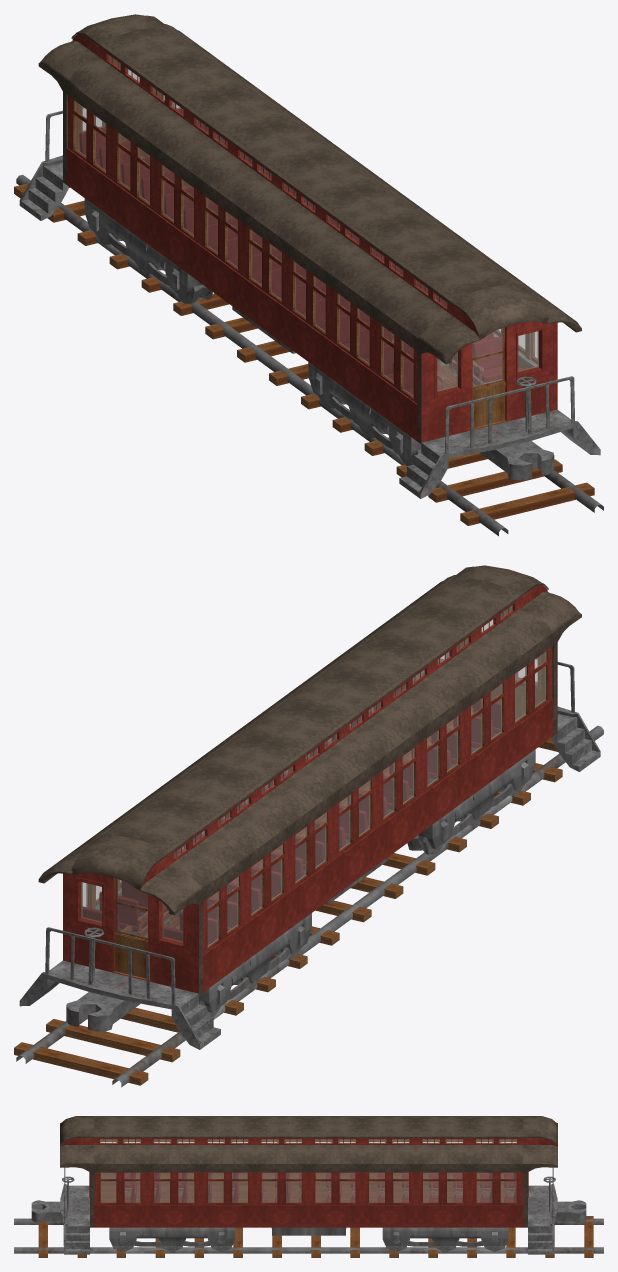
Rendered from Train.fbx.
The picture shows the model from 3 angles, top to bottom: view 1: azimuth 30°, elevation 25°; view 2: azimuth 150°, elevation 25°; view 3: azimuth 270°, elevation 25°; orthographic projection. The views are drawn at different scales.
Parts seen in each view (by area): view 1: TrainCar; view 2: TrainCar; view 3: TrainCar.
Boxes of the visible parts, bbox=[...] form: TrainCar: bbox=[14, 14, 603, 536]; TrainCar: bbox=[14, 565, 603, 1087]; TrainCar: bbox=[14, 1116, 603, 1257].
Size of the model in its own units: 459 by 463 by 2131.
